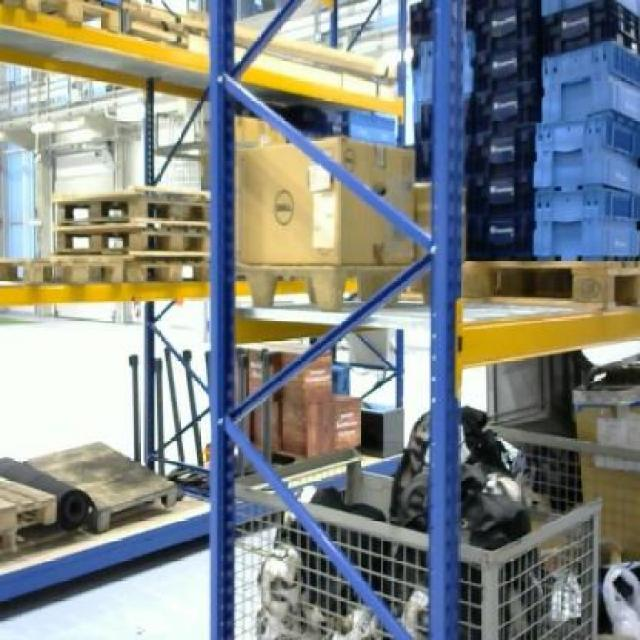box: (236, 134, 414, 262)
